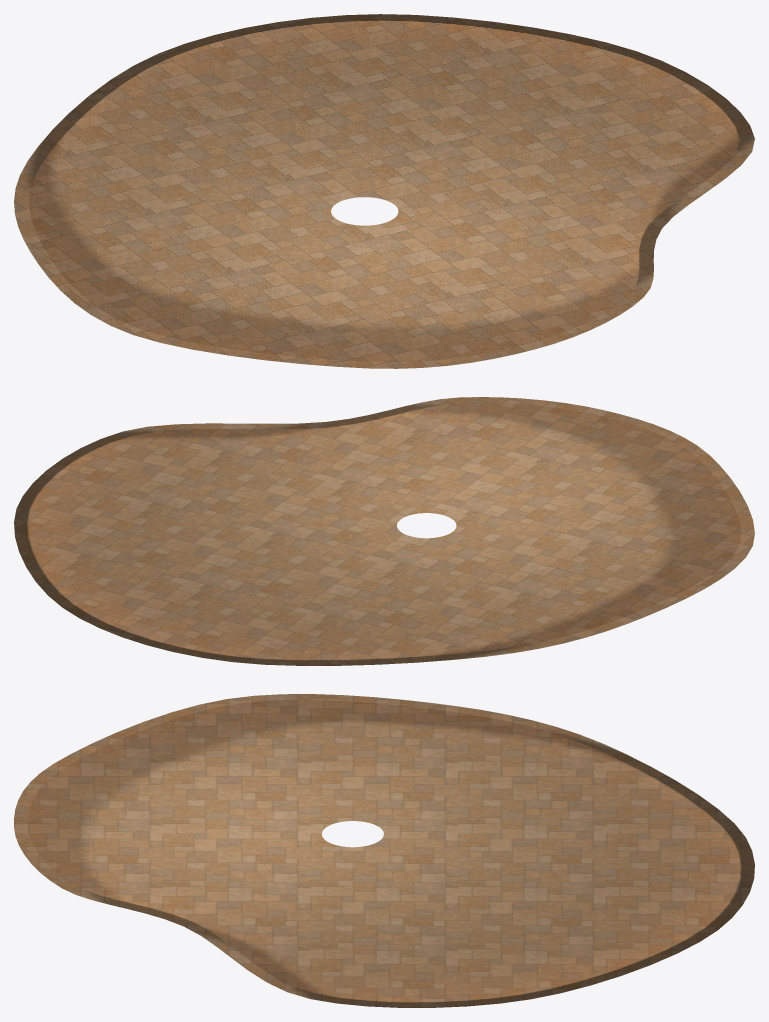
Rendered from solo-suelo-pista-standar.glb.
The picture shows the model from 3 angles, top to bottom: view 1: azimuth 30°, elevation 25°; view 2: azimuth 150°, elevation 25°; view 3: azimuth 270°, elevation 25°; orthographic projection. The views are drawn at different scales.
Parts seen in each view (by area): view 1: suelo-exterior.001; view 2: suelo-exterior.001; view 3: suelo-exterior.001.
Boxes of the visible parts, x1=… form: suelo-exterior.001: x1=14, y1=14, x2=754, y2=368; suelo-exterior.001: x1=14, y1=397, x2=754, y2=665; suelo-exterior.001: x1=14, y1=694, x2=754, y2=1007.
Bounding box in the file's own units: 9.27 × 0 × 9.25.
Materials: 1 (1 with a texture image).
